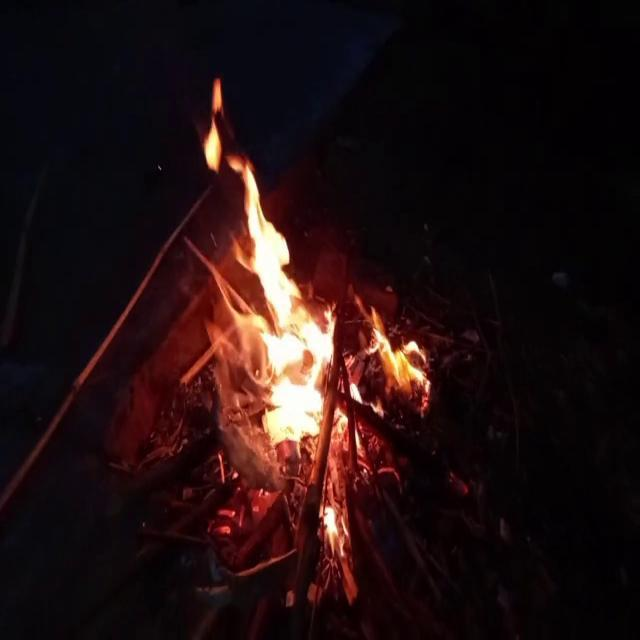Fire: (192, 138, 362, 458), (358, 290, 440, 412), (318, 479, 357, 564)
